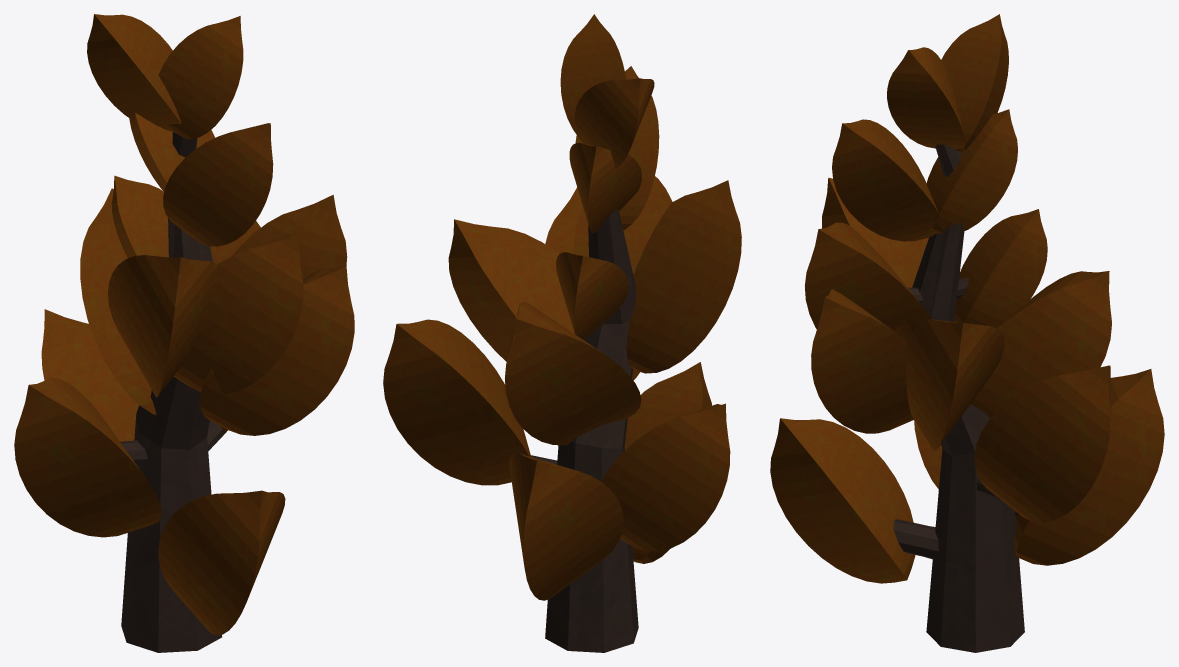
The model's file is tree-green-red-flowers_5.fbx.
3 views of the same model, side by side, from view 1: azimuth 30°, elevation 25°; view 2: azimuth 150°, elevation 25°; view 3: azimuth 270°, elevation 25° (orthographic). The views are drawn at different scales.
Visible parts, largest first — view 1: Icosphere.101; view 2: Icosphere.101; view 3: Icosphere.101.
Part boxes in pixels (box(x1,y1,x2,y2)): Icosphere.101: box(14, 14, 354, 652); Icosphere.101: box(383, 14, 741, 652); Icosphere.101: box(770, 14, 1164, 652).
Bounding box in the file's own units: 123 × 234 × 140.
